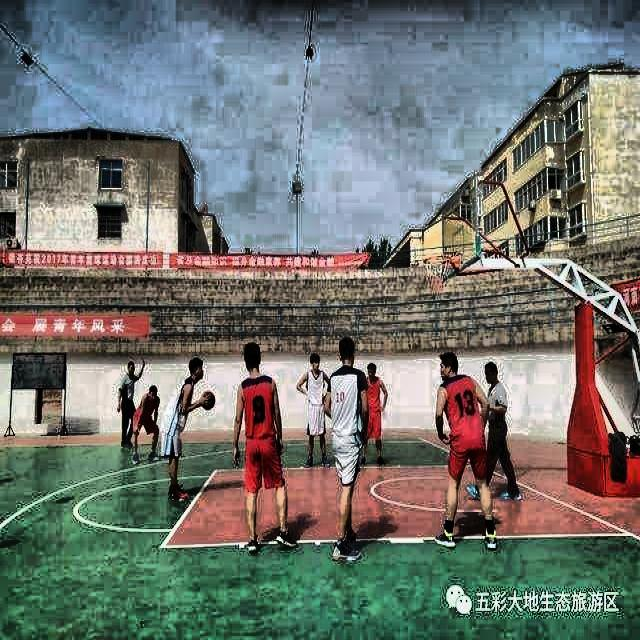board: (201, 391, 215, 409)
